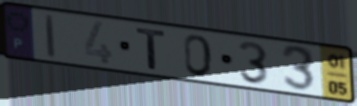0: (182, 33, 214, 78)
3: (281, 43, 317, 94), (236, 40, 271, 86)
4: (82, 18, 115, 67)
I: (43, 12, 57, 61)
T: (134, 26, 169, 72)
